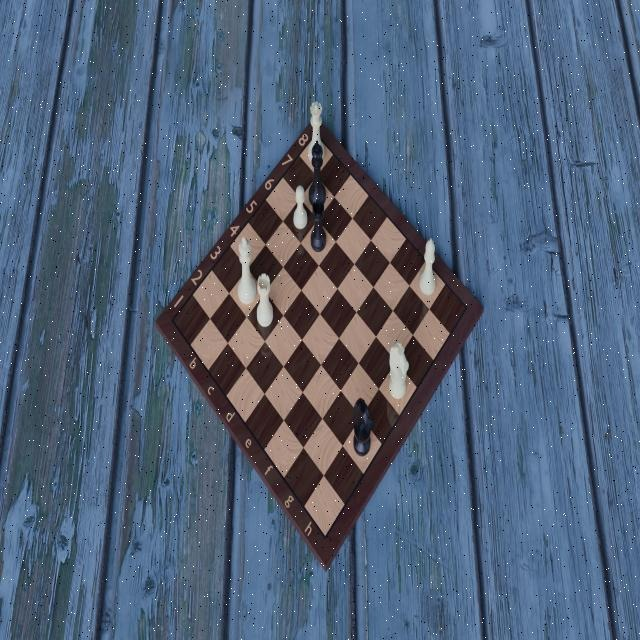black-king: (308, 141, 326, 207)
black-knight: (353, 397, 373, 456)
black-rook: (309, 199, 326, 253)
white-bishop: (419, 235, 437, 296)
white-king: (236, 235, 257, 305)
white-knight: (389, 340, 409, 400)
white-pawn: (292, 183, 309, 229)
white-queen: (307, 100, 325, 164)
white-rook: (256, 272, 274, 328)
